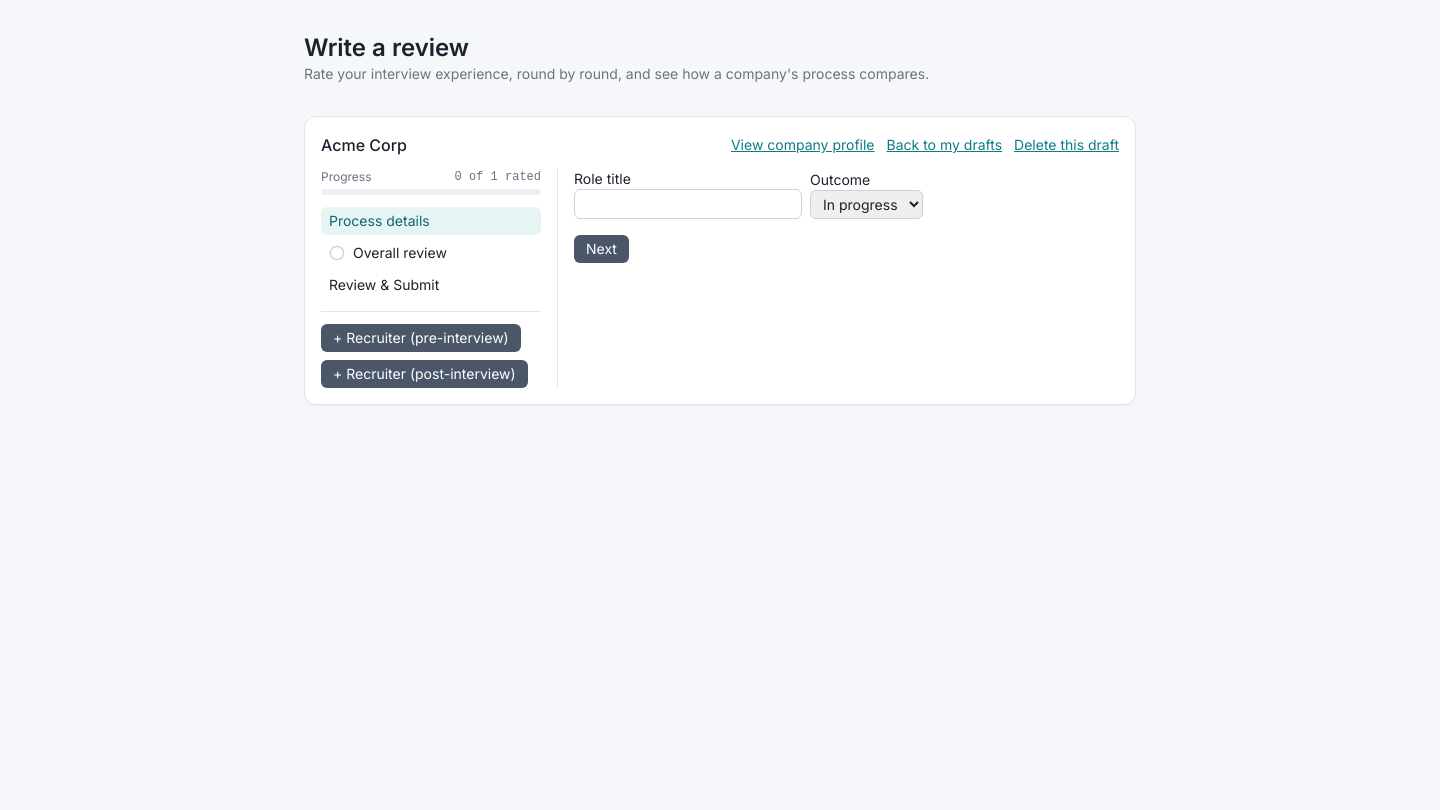
Test case: Next-button add-round modal (GitHub issues #306, #319) › "Cancel" closes the modal without navigating anywhere (GitHub issue #319)
The image size is (1440, 810).
Check: the heading "Acme Corp" is shown, box x1=321 y1=133 x2=407 y2=157
Type "Backend Engineer" into the field labelled "Role title" at coordinates (688, 204), box x1=574 y1=189 x2=802 y2=219
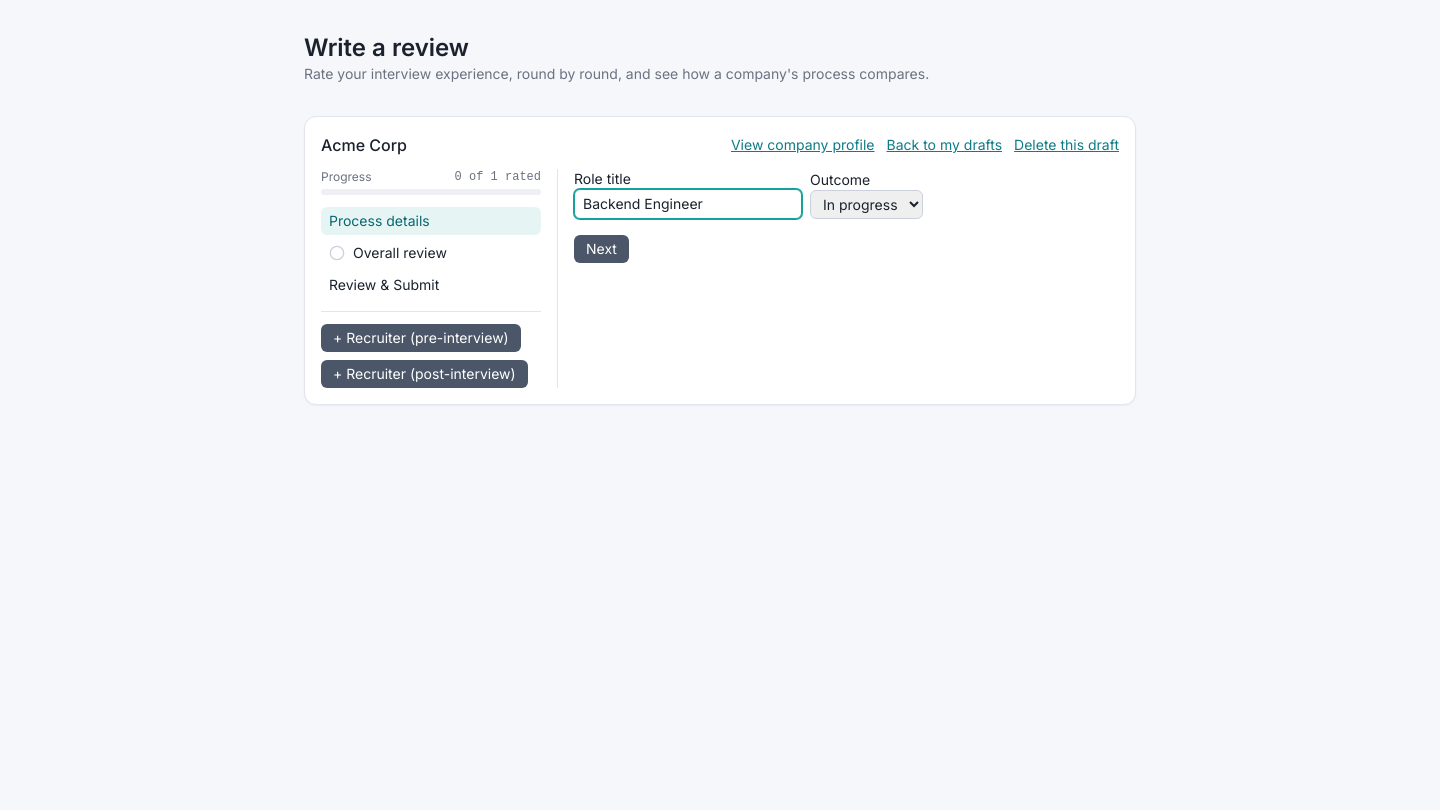
Click the button "Next" at coordinates (601, 249), box x1=574 y1=235 x2=629 y2=263
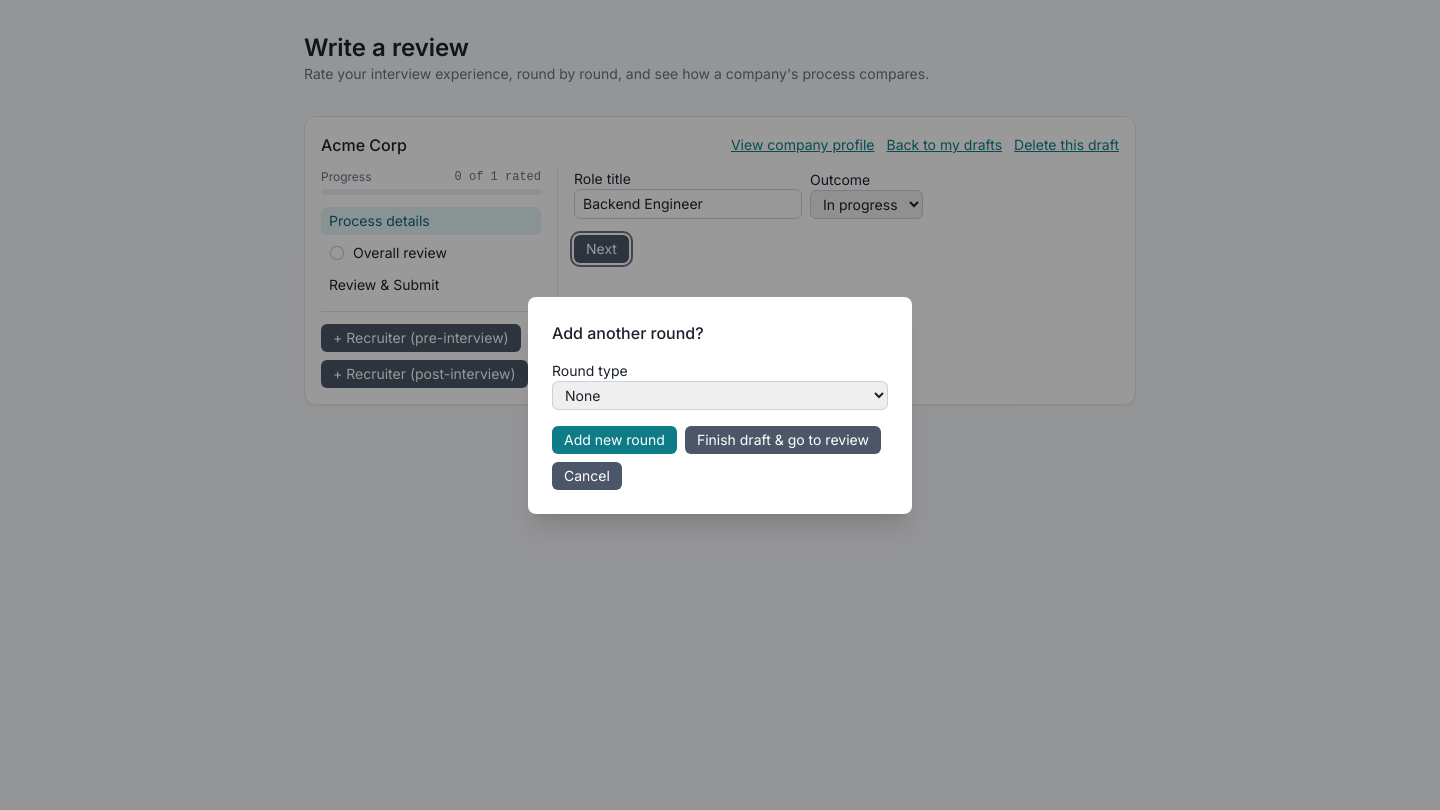
Check: the dialog "Add another round" is shown
Click the button "Cancel" at coordinates (587, 476), box x1=552 y1=462 x2=622 y2=490
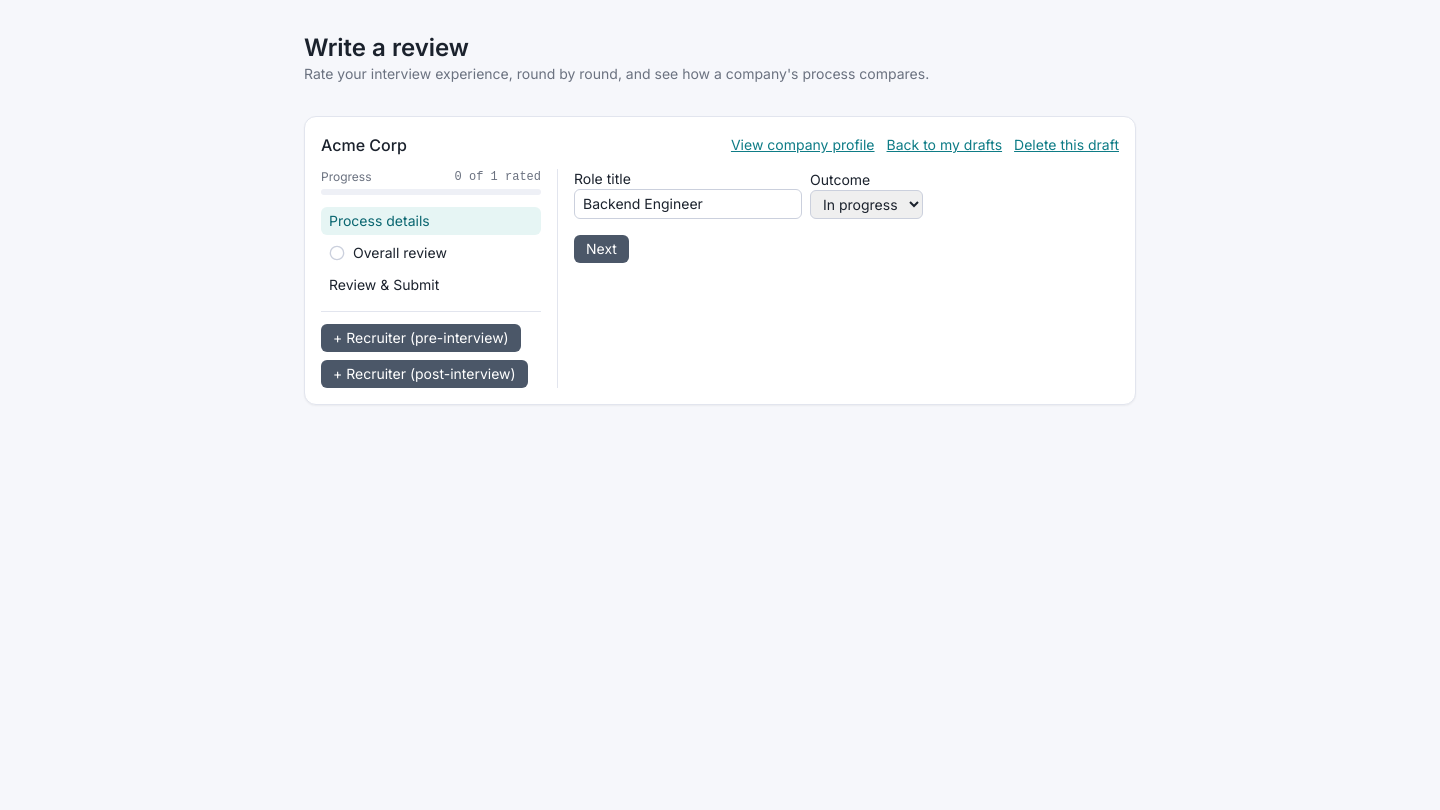
Check: the dialog is gone
